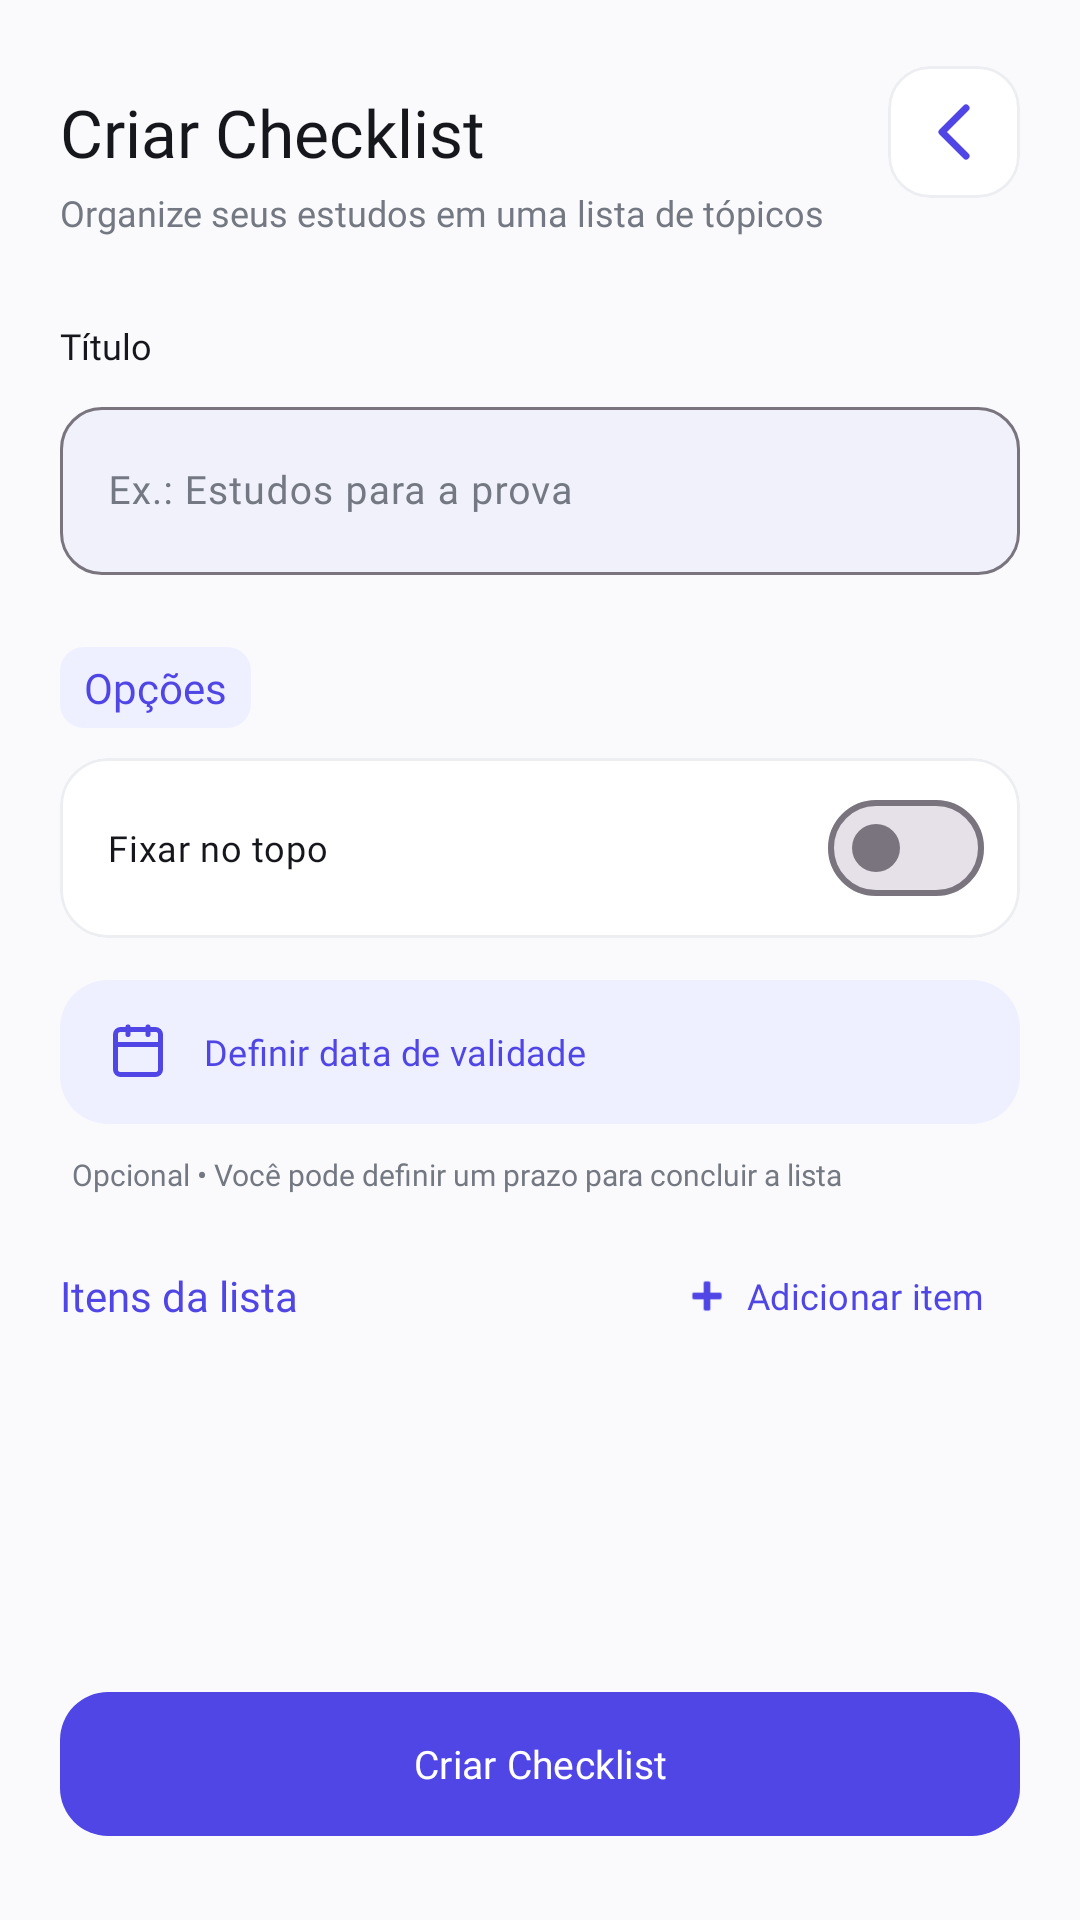

Icons on this 1080x1920 Android screen, each with its box as box=[x1, y1, x2, y2]:
Voltar: box=[938, 104, 970, 160]
